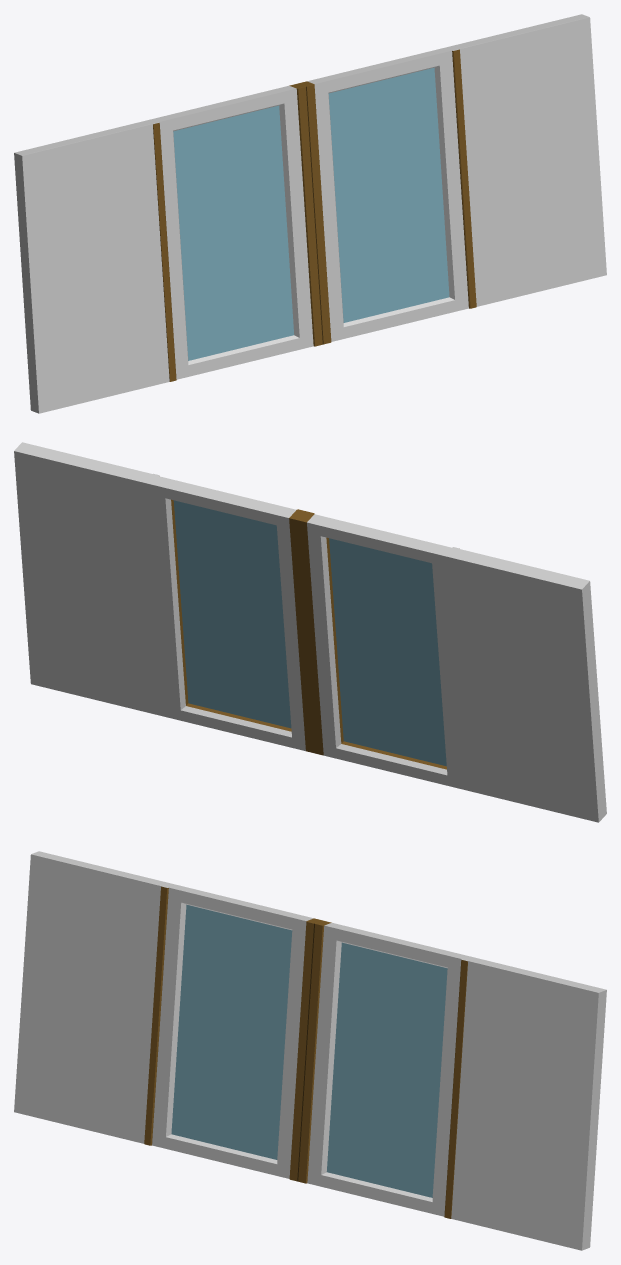
File: RingBarrier.fbx
3 renders of one model, top to bottom at view 1: azimuth 30°, elevation 25°; view 2: azimuth 150°, elevation 25°; view 3: azimuth 330°, elevation 25°, orthographic.
Visible parts, largest first — view 1: F22.002; view 2: F22.002; view 3: F22.002.
Part boxes in pixels (<box>): F22.002: <box>14,14,606,413</box>; F22.002: <box>14,442,606,822</box>; F22.002: <box>14,851,606,1250</box>.
Size of the model in its own units: 867 by 362 by 67.39.
